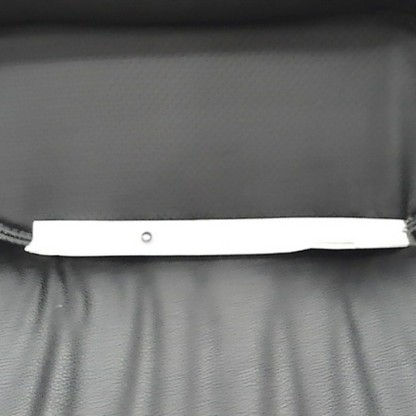ironball: (139, 228, 153, 242)
